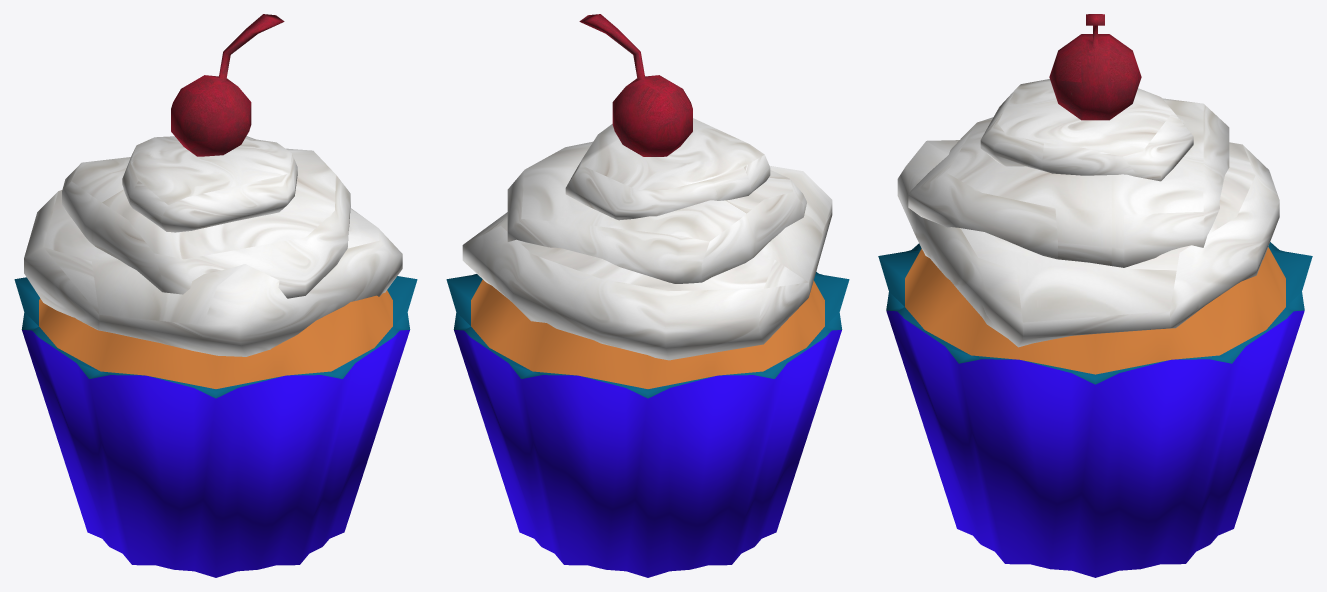
The model's file is CUPCAKE02.FBX.
The picture shows the model from 3 angles, left to right: view 1: azimuth 30°, elevation 25°; view 2: azimuth 150°, elevation 25°; view 3: azimuth 270°, elevation 25°; orthographic projection. The views are drawn at different scales.
Visible parts, largest first — view 1: Cylinder001, Box003, Object002, Object001, Sphere001; view 2: Cylinder001, Box003, Object002, Object001, Sphere001; view 3: Cylinder001, Box003, Object002, Object001, Sphere001.
Part boxes in pixels (left/top/right/bottom): Cylinder001: left=14, top=276, right=417, bottom=577; Box003: left=24, top=190, right=402, bottom=356; Object002: left=62, top=148, right=350, bottom=298; Object001: left=122, top=136, right=297, bottom=232; Sphere001: left=171, top=14, right=284, bottom=156; Cylinder001: left=446, top=272, right=849, bottom=577; Box003: left=462, top=166, right=832, bottom=360; Object002: left=507, top=141, right=806, bottom=283; Object001: left=565, top=118, right=770, bottom=220; Sphere001: left=579, top=14, right=692, bottom=156; Cylinder001: left=878, top=242, right=1312, bottom=577; Box003: left=897, top=140, right=1279, bottom=347; Object002: left=908, top=98, right=1229, bottom=267; Object001: left=980, top=79, right=1193, bottom=181; Sphere001: left=1049, top=14, right=1141, bottom=120.
Size of the model in its own units: 50.19 by 67.93 by 50.35.
Materials: 5 (2 with a texture image).
